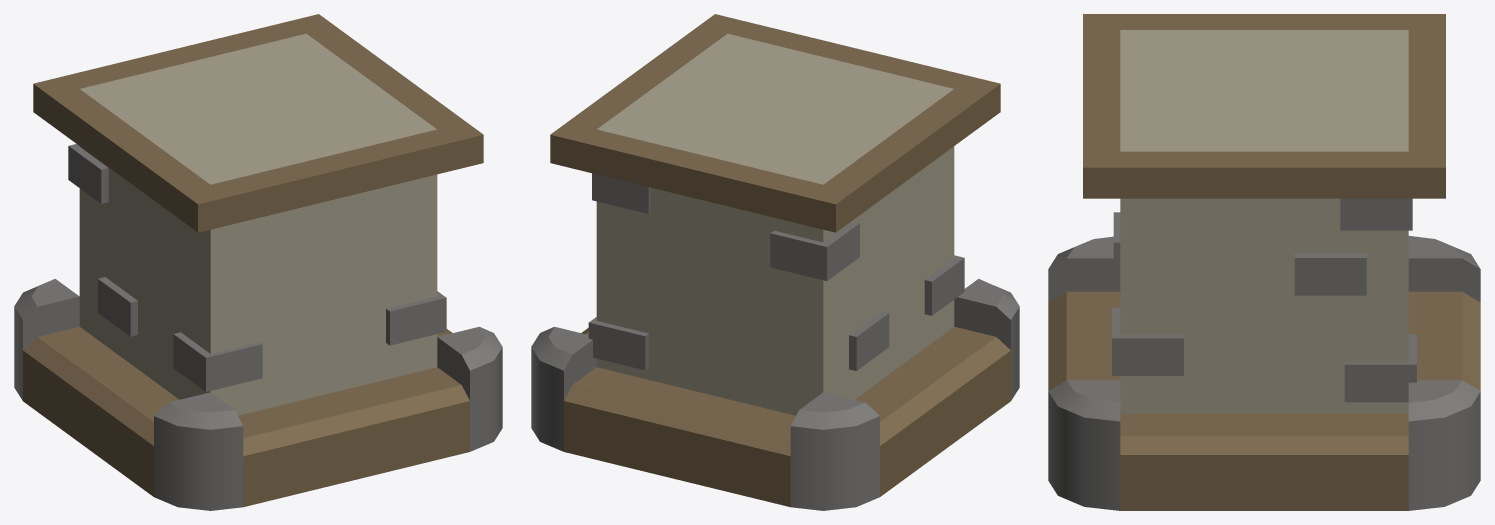
Rendered from Big_Column.fbx.
The picture shows the model from 3 angles, left to right: view 1: azimuth 30°, elevation 25°; view 2: azimuth 150°, elevation 25°; view 3: azimuth 270°, elevation 25°; orthographic projection. The views are drawn at different scales.
Visible parts, largest first — view 1: polySurface1; view 2: polySurface1; view 3: polySurface1.
Boxes of the visible parts, x1=… form: polySurface1: x1=14, y1=14, x2=502, y2=510; polySurface1: x1=531, y1=14, x2=1019, y2=510; polySurface1: x1=1048, y1=14, x2=1480, y2=510.
Bounding box in the file's own units: 0.06 × 0.0503 × 0.06.
